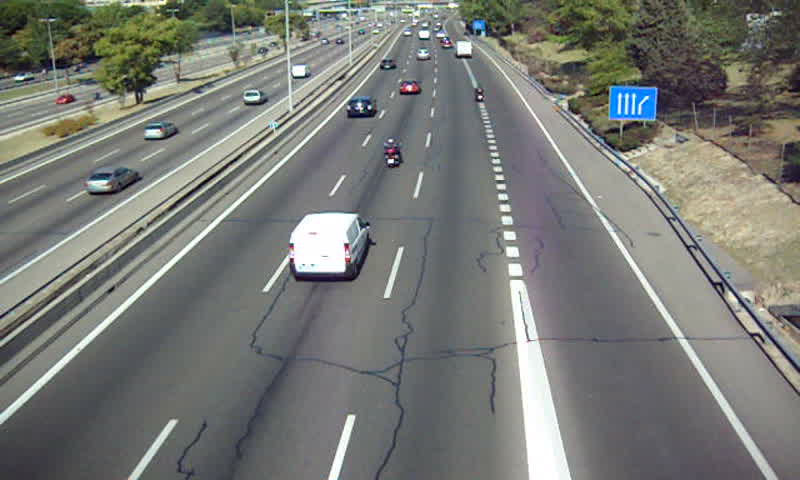car: (345, 95, 380, 120), (397, 80, 420, 96), (378, 58, 396, 71), (414, 48, 430, 61)
motorcycle: (383, 137, 400, 170), (474, 84, 484, 105)
van: (290, 212, 370, 281), (456, 40, 474, 59)
